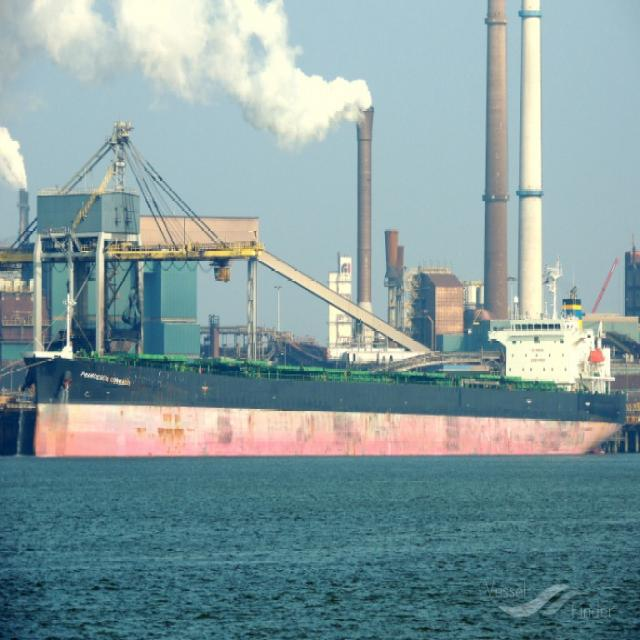OCR: (79, 366, 135, 388)
